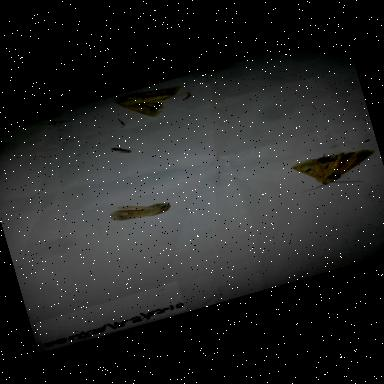abw: (290, 140, 382, 199), (114, 80, 188, 127), (108, 192, 172, 228)
pbw: (109, 144, 132, 158)
